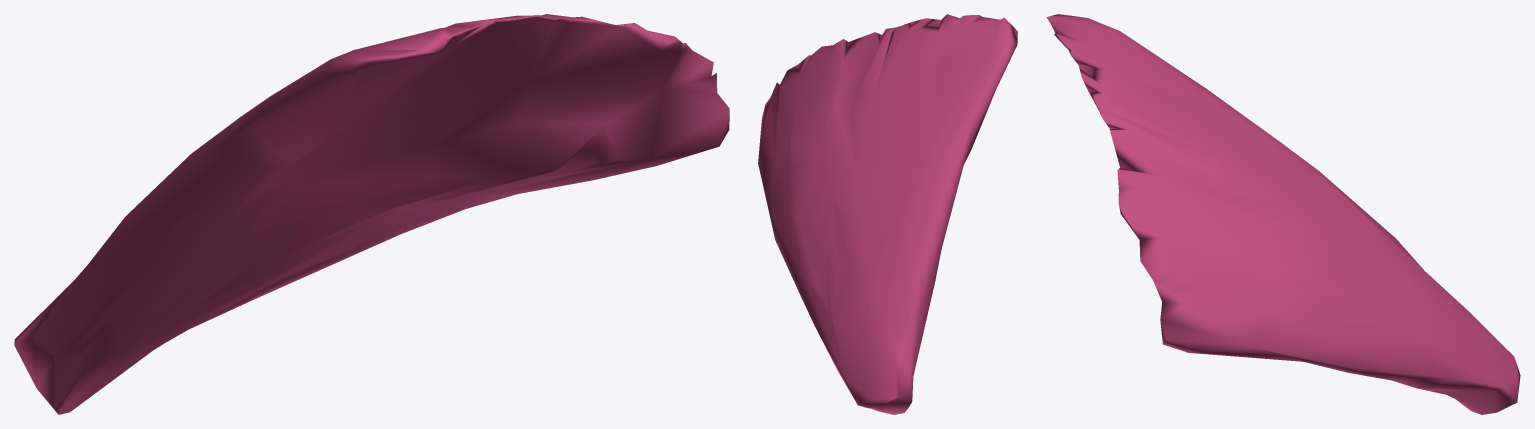
The picture shows the model from 3 angles, left to right: view 1: azimuth 30°, elevation 25°; view 2: azimuth 150°, elevation 25°; view 3: azimuth 270°, elevation 25°; orthographic projection. The views are drawn at different scales.
Parts seen in each view (by area): view 1: 左侧头后小直肌; view 2: 左侧头后小直肌; view 3: 左侧头后小直肌.
Boxes of the visible parts, left/top/right/bottom form: 左侧头后小直肌: left=14, top=14, right=729, bottom=414; 左侧头后小直肌: left=758, top=14, right=1017, bottom=414; 左侧头后小直肌: left=1046, top=14, right=1520, bottom=414.
Size of the model in its own units: 0.0348 by 0.0373 by 0.0383.
